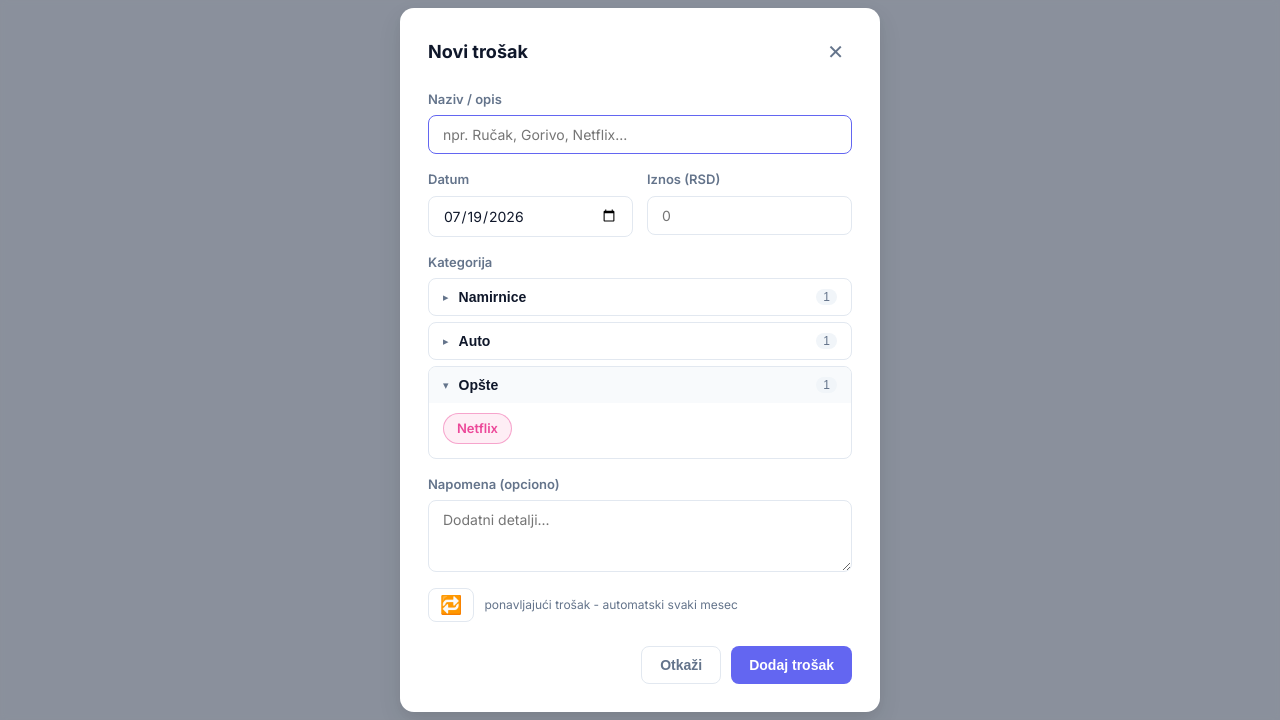
Test: ExpenseModal — category group picker › clicking a collapsed group header expands it to show pills
Auto is collapsed initially (Gorivo is not the default selection)
Click the button "▸ Auto 1".
click(474, 341)  # box [429,323,851,359]
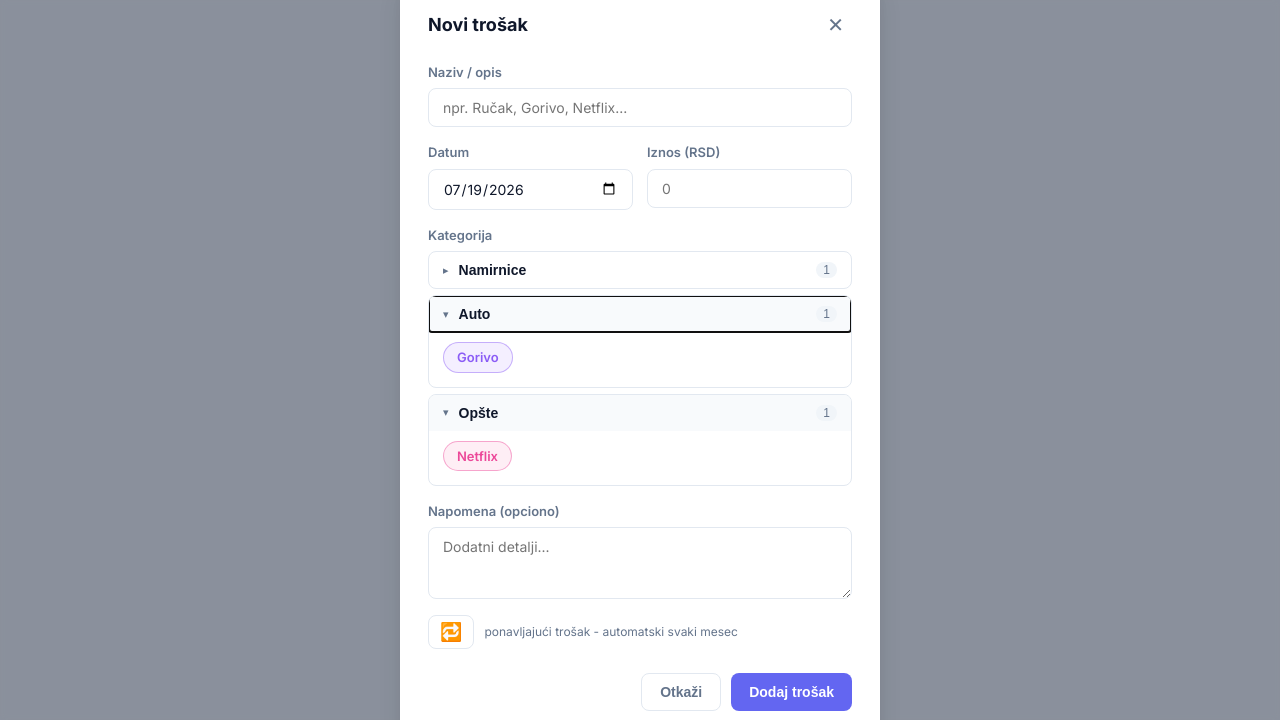
Result: the button "Gorivo" is shown at [443,342,513,372]
